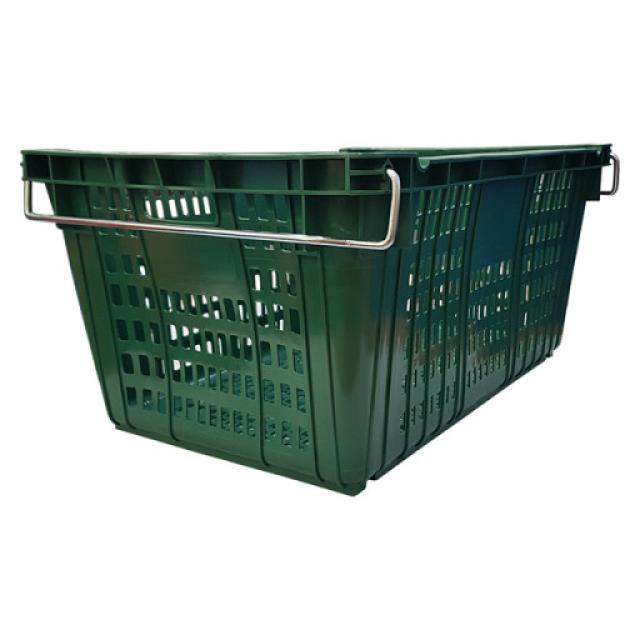basket: (18, 143, 618, 496)
